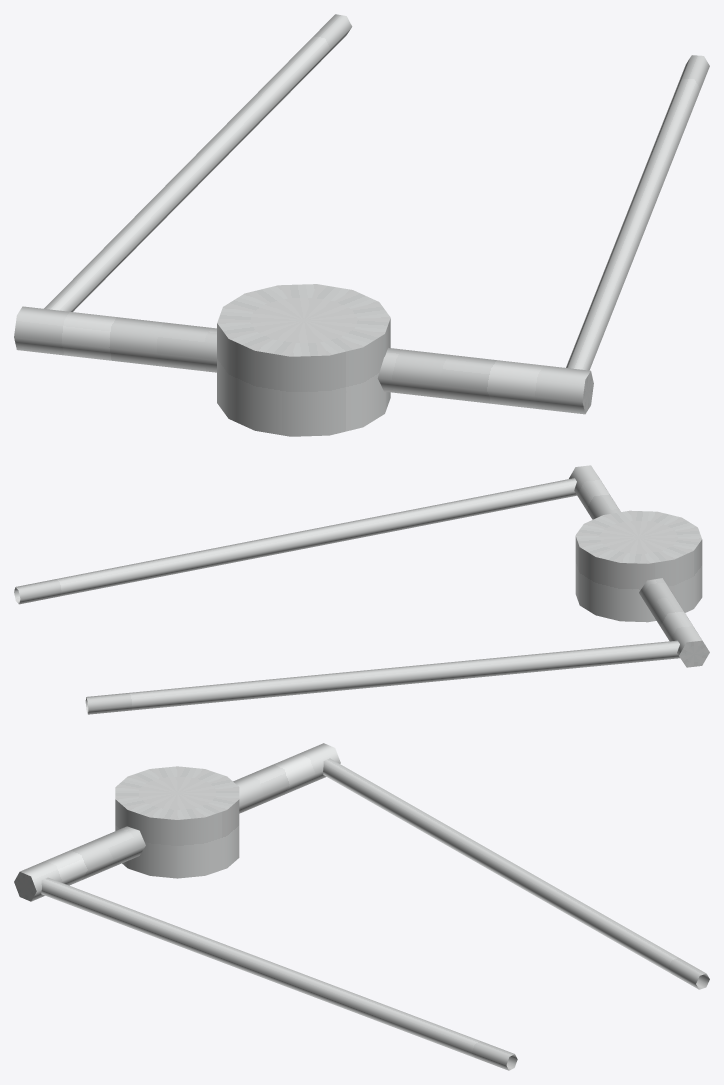
File: nycsignalarm_diagonal4_c0_pedestal.obj
3 views of the same model, one above another, from view 1: azimuth 30°, elevation 25°; view 2: azimuth 150°, elevation 25°; view 3: azimuth 270°, elevation 25° (orthographic). The views are drawn at different scales.
Visible parts, largest first — view 1: nycsignalarm_diagonal4_c0_pedestal; view 2: nycsignalarm_diagonal4_c0_pedestal; view 3: nycsignalarm_diagonal4_c0_pedestal.
Boxes of the visible parts, box(x1,y1,x2,y2) form: nycsignalarm_diagonal4_c0_pedestal: box(14, 14, 709, 436); nycsignalarm_diagonal4_c0_pedestal: box(14, 465, 709, 714); nycsignalarm_diagonal4_c0_pedestal: box(14, 743, 709, 1070).
Size of the model in its own units: 2.43 by 0.225 by 2.43.
